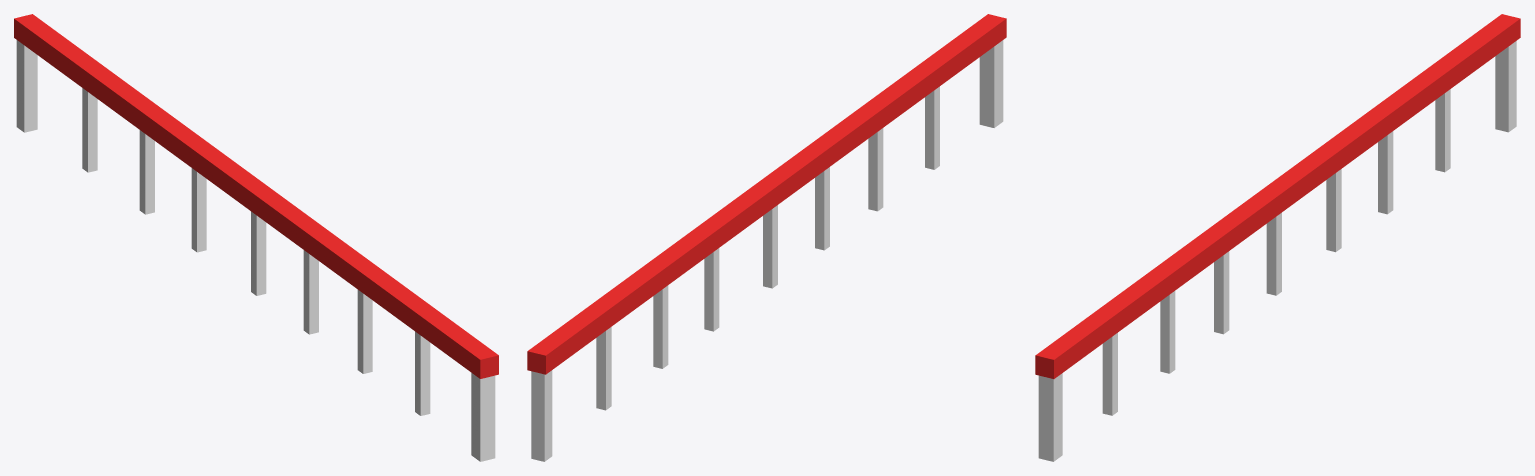
Rendered from Railing 02.FBX.
3 renders of one model, left to right at view 1: azimuth 30°, elevation 25°; view 2: azimuth 150°, elevation 25°; view 3: azimuth 330°, elevation 25°, orthographic.
Visible parts, largest first — view 1: Box001; view 2: Box001; view 3: Box001.
Boxes of the visible parts, x1,y1,x2,y2 form: Box001: (14,14,498,461); Box001: (527,14,1006,461); Box001: (1035,14,1520,461).
Size of the model in its own units: 0.7029 by 3.92 by 30.51.
